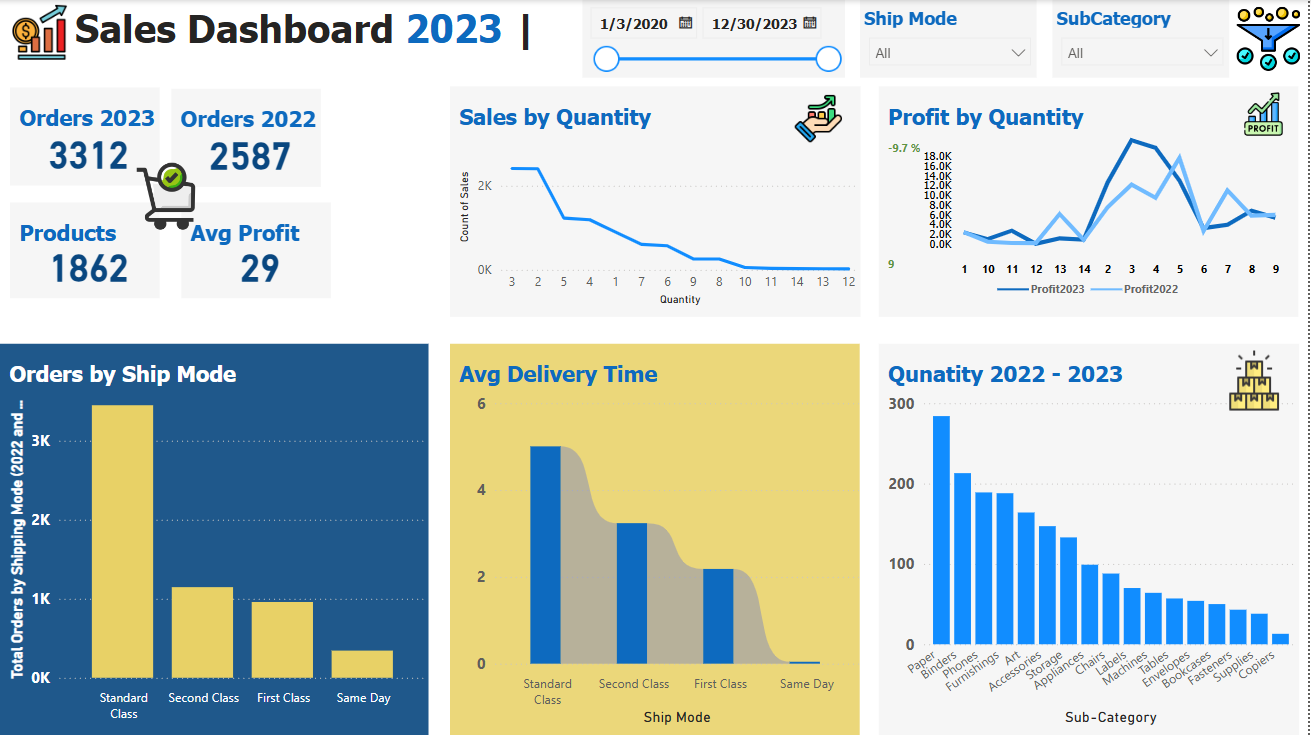

The dashboard page shown, as its layout file describes it:
{"tool":"powerbi","page":{"name":"Page 2","canvas":[1280,720],"ordinal":1},"visuals":[{"type":"lineChart","title":"Sales by Quantity","fields":{"Category":["Orders.Quantity"],"Y":["CountNonNull(Orders.Sales)"]},"box":[440,84.8,401.3,225.6],"z":2000},{"type":"image","box":[760.6,85.6,80.7,61.1],"z":3000},{"type":"powerKPI462CE5C2666F4EC8A8BDD7E5587320A3","title":"Profit by Quantity","fields":{"Axis":["Orders.Quantity"],"Values":["Customers.Profit2023","Customers.Profit 2022"]},"box":[860,84.8,410,225.6],"z":4000},{"type":"image","box":[1201.5,86,68.5,52.3],"z":5000},{"type":"clusteredColumnChart","title":"Orders by Ship Mode","fields":{"Category":["Orders.Ship Mode"],"Y":["Customers.Total Orders by Shipping Mode"]},"box":[0,336.3,419.4,384],"z":6000},{"type":"lineStackedColumnComboChart","title":"Qunatity 2022 - 2023","fields":{"Category":["Products.Sub-Category"],"Y":["CountNonNull(Products.Product ID)"]},"box":[859.7,336.3,410.9,384],"z":7000},{"type":"image","box":[1183.7,336.3,86.8,72.1],"z":8000},{"type":"ribbonChart","title":"Avg Delivery Time","fields":{"Category":["Orders.Ship Mode"],"Y":["Customers.Avg Delivery Time (No Filter)"]},"box":[440.2,336.3,401.1,384],"z":9000},{"type":"advanceCardE03760C5AB684758B56AA29F9E6C257B","title":"Orders 2023","fields":{"mainMeasure":["Orders.Orders 2023"]},"box":[10,85,146.2,96.2],"z":9001},{"type":"advanceCardE03760C5AB684758B56AA29F9E6C257B","title":"Orders 2022","fields":{"mainMeasure":["Orders.Orders 2022"]},"box":[167.5,86.2,146.2,96.2],"z":9002},{"type":"advanceCardE03760C5AB684758B56AA29F9E6C257B","title":"Products","fields":{"mainMeasure":["Count(Orders.Product ID)"]},"box":[10,197.5,146.2,93.8],"z":9003},{"type":"advanceCardE03760C5AB684758B56AA29F9E6C257B","title":"Avg Profit","fields":{"mainMeasure":["Avg(Orders.Profit)"]},"box":[177.5,197.5,146.2,93.8],"z":9005},{"type":"image","box":[125,150,75,83.8],"z":9006},{"type":"textbox","box":[68.8,0,511.2,63.8],"z":9007},{"type":"image","box":[0,0,77.5,63.8],"z":9008}]}

Visuals, with their boxes in screenshot pixels (x1, y1, x2, y2), scaled from the page's 1280x720 canvas onto the 1311x735 screenshot:
"Sales by Quantity" lineChart: <box>451,87,862,317</box>
image: <box>779,87,862,150</box>
"Profit by Quantity" powerKPI462CE5C2666F4EC8A8BDD7E5587320A3: <box>881,87,1301,317</box>
image: <box>1231,88,1301,141</box>
"Orders by Ship Mode" clusteredColumnChart: <box>0,343,430,734</box>
"Qunatity 2022 - 2023" lineStackedColumnComboChart: <box>881,343,1301,734</box>
image: <box>1212,343,1301,417</box>
"Avg Delivery Time" ribbonChart: <box>451,343,862,734</box>
"Orders 2023" advanceCardE03760C5AB684758B56AA29F9E6C257B: <box>10,87,160,185</box>
"Orders 2022" advanceCardE03760C5AB684758B56AA29F9E6C257B: <box>172,88,321,186</box>
"Products" advanceCardE03760C5AB684758B56AA29F9E6C257B: <box>10,202,160,297</box>
"Avg Profit" advanceCardE03760C5AB684758B56AA29F9E6C257B: <box>182,202,332,297</box>
image: <box>128,153,205,239</box>
textbox: <box>70,0,594,65</box>
image: <box>0,0,79,65</box>
